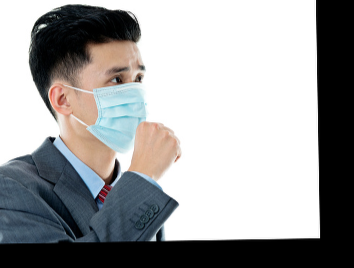with_mask: (73, 59, 147, 151)
